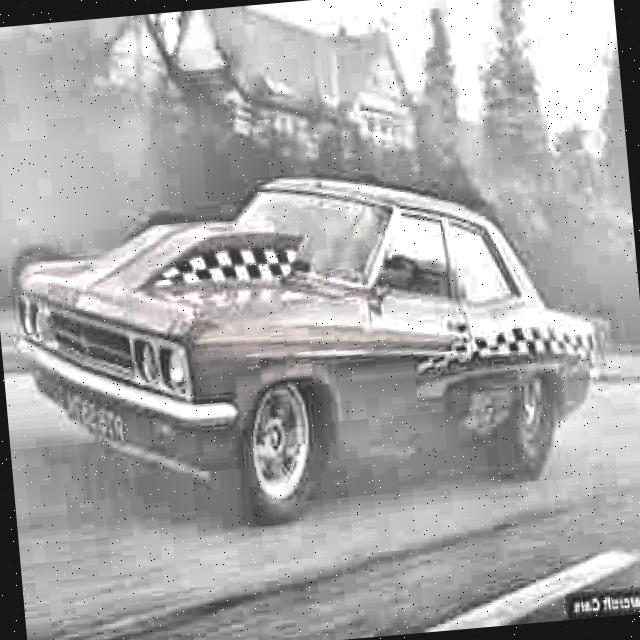license_plate: (77, 383, 128, 454)
